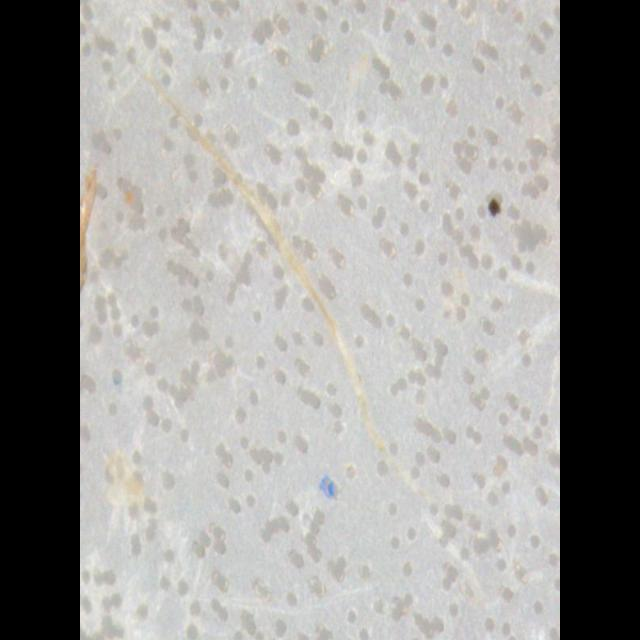Fibre: (152, 70, 484, 584), (80, 144, 122, 343), (98, 429, 152, 533)
